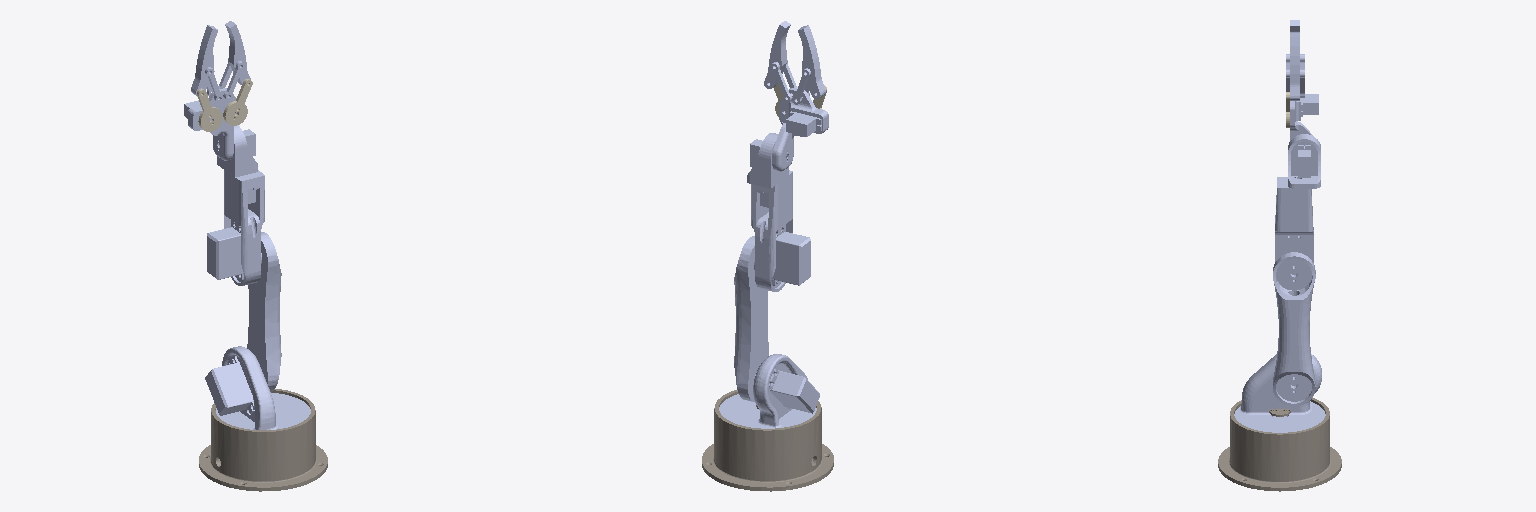
The robot description file, URDF, robot "robot_arm":
<?xml version="1.0" ?>
<!-- =================================================================================== -->
<!-- |    This document was autogenerated by xacro from [local-path]/rmc_ws/src/robot_arm/urdf/robot_arm.xacro | -->
<!-- |    EDITING THIS FILE BY HAND IS NOT RECOMMENDED                                 | -->
<!-- =================================================================================== -->
<!-- This URDF was automatically created by SolidWorks to URDF Exporter! Originally created by [author] ([email redacted]) 
     Commit Version: 1.6.0-4-g7f85cfe  Build Version: 1.6.7995.38578
     For more information, please see http://wiki.ros.org/sw_urdf_exporter -->
<robot name="robot_arm">
    <link name="world" />
    <joint name="fixed_base_joint" type="fixed">
        <parent link="world" />
        <child link="base_link" />
    </joint>
    <transmission name="tran1">
        <type>transmission_interface/SimpleTransmission</type>
        <joint name="joint1">
            <hardwareInterface>hardware_interface/PositionJointInterface</hardwareInterface>
        </joint>
        <actuator name="$motor_name">
            <hardwareInterface>hardware_interface/PositionJointInterface</hardwareInterface>
            <mechanicalReduction>1</mechanicalReduction>
        </actuator>
    </transmission>
    <transmission name="tran2">
        <type>transmission_interface/SimpleTransmission</type>
        <joint name="joint2">
            <hardwareInterface>hardware_interface/PositionJointInterface</hardwareInterface>
        </joint>
        <actuator name="$motor_name">
            <hardwareInterface>hardware_interface/PositionJointInterface</hardwareInterface>
            <mechanicalReduction>1</mechanicalReduction>
        </actuator>
    </transmission>
    <transmission name="tran3">
        <type>transmission_interface/SimpleTransmission</type>
        <joint name="joint3">
            <hardwareInterface>hardware_interface/PositionJointInterface</hardwareInterface>
        </joint>
        <actuator name="$motor_name">
            <hardwareInterface>hardware_interface/PositionJointInterface</hardwareInterface>
            <mechanicalReduction>1</mechanicalReduction>
        </actuator>
    </transmission>
    <transmission name="tran4">
        <type>transmission_interface/SimpleTransmission</type>
        <joint name="joint4">
            <hardwareInterface>hardware_interface/PositionJointInterface</hardwareInterface>
        </joint>
        <actuator name="$motor_name">
            <hardwareInterface>hardware_interface/PositionJointInterface</hardwareInterface>
            <mechanicalReduction>1</mechanicalReduction>
        </actuator>
    </transmission>
    <transmission name="tran5">
        <type>transmission_interface/SimpleTransmission</type>
        <joint name="joint5">
            <hardwareInterface>hardware_interface/PositionJointInterface</hardwareInterface>
        </joint>
        <actuator name="$motor_name">
            <hardwareInterface>hardware_interface/PositionJointInterface</hardwareInterface>
            <mechanicalReduction>1</mechanicalReduction>
        </actuator>
    </transmission>
    <transmission name="tran6">
        <type>transmission_interface/SimpleTransmission</type>
        <joint name="joint6_left">
            <hardwareInterface>hardware_interface/PositionJointInterface</hardwareInterface>
        </joint>
        <actuator name="$motor_name">
            <hardwareInterface>hardware_interface/PositionJointInterface</hardwareInterface>
            <mechanicalReduction>1</mechanicalReduction>
        </actuator>
    </transmission>
    <link name="base_link">
        <inertial>
            <origin rpy="0 0 0" xyz="0.0025107 2.5745E-07 0.014365" />
            <mass value="0.13062" />
            <inertia ixx="0.00013435" ixy="1.3434E-09" ixz="-2.1737E-06" iyy="0.00013984" iyz="6.6089E-10" izz="0.00020719" />
        </inertial>
        <visual>
            <origin rpy="0 0 0" xyz="0 0 0" />
            <geometry>
                <mesh filename="package://robot_arm/meshes/base_link.STL" />
            </geometry>
            <material name="">
                <color rgba="0.64706 0.61961 0.58824 1" />
            </material>
        </visual>
        <collision>
            <origin rpy="0 0 0" xyz="0 0 0" />
            <geometry>
                <mesh filename="package://robot_arm/meshes/base_link.STL" />
            </geometry>
        </collision>
    </link>
    <link name="link1">
        <inertial>
            <origin rpy="0 0 0" xyz="-0.013889 0.0031829 0.023743" />
            <mass value="0.10712" />
            <inertia ixx="7.3474E-05" ixy="2.0176E-08" ixz="6.1163E-06" iyy="5.7803E-05" iyz="-8.5396E-06" izz="6.7542E-05" />
        </inertial>
        <visual>
            <origin rpy="0 0 0" xyz="0 0 0" />
            <geometry>
                <mesh filename="package://robot_arm/meshes/link1.STL" />
            </geometry>
            <material name="">
                <color rgba="0.79216 0.81961 0.93333 1" />
            </material>
        </visual>
        <collision>
            <origin rpy="0 0 0" xyz="0 0 0" />
            <geometry>
                <mesh filename="package://robot_arm/meshes/link1.STL" />
            </geometry>
        </collision>
    </link>
    <joint name="joint1" type="revolute">
        <origin rpy="0 0 0" xyz="0 0 0.0494" />
        <parent link="base_link" />
        <child link="link1" />
        <axis xyz="0 0 1" />
        <limit effort="1.96" lower="-2.09" upper="2.09" velocity="3.14" />
    </joint>
    <link name="link2">
        <inertial>
            <origin rpy="0 0 0" xyz="8.5659E-08 0.059964 0.0078473" />
            <mass value="0.064838" />
            <inertia ixx="0.00010586" ixy="4.5428E-10" ixz="9.5397E-12" iyy="9.4488E-06" iyz="2.4801E-09" izz="0.00011087" />
        </inertial>
        <visual>
            <origin rpy="0 0 0" xyz="0 0 0" />
            <geometry>
                <mesh filename="package://robot_arm/meshes/link2.STL" />
            </geometry>
            <material name="">
                <color rgba="0.79216 0.81961 0.93333 1" />
            </material>
        </visual>
        <collision>
            <origin rpy="0 0 0" xyz="0 0 0" />
            <geometry>
                <mesh filename="package://robot_arm/meshes/link2.STL" />
            </geometry>
        </collision>
    </link>
    <joint name="joint2" type="revolute">
        <origin rpy="1.5708 0 1.5708" xyz="0.001 0.01391 0.04028" />
        <parent link="link1" />
        <child link="link2" />
        <axis xyz="0 0 1" />
        <limit effort="1.96" lower="-1.57" upper="1.57" velocity="3.14" />
    </joint>
    <link name="link3">
        <inertial>
            <origin rpy="0 0 0" xyz="1.6318E-05 -0.031392 0.019078" />
            <mass value="0.090982" />
            <inertia ixx="6.557E-05" ixy="-3.4803E-08" ixz="5.9501E-10" iyy="1.5641E-05" iyz="6.4756E-07" izz="6.5685E-05" />
        </inertial>
        <visual>
            <origin rpy="0 0 0" xyz="0 0 0" />
            <geometry>
                <mesh filename="package://robot_arm/meshes/link3.STL" />
            </geometry>
            <material name="">
                <color rgba="0.79216 0.81961 0.93333 1" />
            </material>
        </visual>
        <collision>
            <origin rpy="0 0 0" xyz="0 0 0" />
            <geometry>
                <mesh filename="package://robot_arm/meshes/link3.STL" />
            </geometry>
        </collision>
    </link>
    <joint name="joint3" type="revolute">
        <origin rpy="-3.1416 0 0" xyz="0 0.12 0" />
        <parent link="link2" />
        <child link="link3" />
        <axis xyz="0 0 1" />
        <limit effort="1.96" lower="-2.09" upper="2.09" velocity="3.14" />
    </joint>
    <link name="link4">
        <inertial>
            <origin rpy="0 0 0" xyz="0.0050325 0.0031741 0.017549" />
            <mass value="0.023188" />
            <inertia ixx="4.4549E-06" ixy="4.1467E-09" ixz="1.1497E-08" iyy="5.245E-06" iyz="-6.2983E-07" izz="2.9434E-06" />
        </inertial>
        <visual>
            <origin rpy="0 0 0" xyz="0 0 0" />
            <geometry>
                <mesh filename="package://robot_arm/meshes/link4.STL" />
            </geometry>
            <material name="">
                <color rgba="0.79216 0.81961 0.93333 1" />
            </material>
        </visual>
        <collision>
            <origin rpy="0 0 0" xyz="0 0 0" />
            <geometry>
                <mesh filename="package://robot_arm/meshes/link4.STL" />
            </geometry>
        </collision>
    </link>
    <joint name="joint4" type="revolute">
        <origin rpy="1.5708 0 0" xyz="0.0051 -0.0916 0.0135" />
        <parent link="link3" />
        <child link="link4" />
        <axis xyz="0 0 1" />
        <limit effort="1.96" lower="-2.09" upper="2.09" velocity="3.14" />
    </joint>
    <link name="link5">
        <inertial>
            <origin rpy="0 0 0" xyz="0.00382924734836193 0.0292405343212404 0.0147859518518059" />
            <mass value="0.0225683765881369" />
            <inertia ixx="8.83963263986709E-06" ixy="-1.28322418570414E-06" ixz="-3.58450440375711E-07" iyy="3.63520705800952E-06" iyz="-1.63730559254101E-06" izz="7.38356194215692E-06" />
        </inertial>
        <visual>
            <origin rpy="0 0 0" xyz="0 0 0" />
            <geometry>
                <mesh filename="package://robot_arm/meshes/link5.STL" />
            </geometry>
            <material name="">
                <color rgba="0.792156862745098 0.819607843137255 0.933333333333333 1" />
            </material>
        </visual>
        <collision>
            <origin rpy="0 0 0" xyz="0 0 0" />
            <geometry>
                <mesh filename="package://robot_arm/meshes/link5.STL" />
            </geometry>
        </collision>
    </link>
    <joint name="joint5" type="revolute">
        <origin rpy="1.5708 0 -3.1416" xyz="0.005 0.01535 0.02625" />
        <parent link="link4" />
        <child link="link5" />
        <axis xyz="0 0 1" />
        <limit effort="1.96" lower="-1.57" upper="1.57" velocity="3.14" />
    </joint>
    <link name="link6_left">
        <inertial>
            <origin rpy="0 0 0" xyz="0.00606767082237808 0.00200783995073988 -0.00200000001662691" />
            <mass value="0.00240579375710288" />
            <inertia ixx="1.00721310971705E-07" ixy="-8.05001158171013E-08" ixz="4.70370703065413E-18" iyy="3.17353677826403E-07" iyz="1.37078588865237E-17" izz="4.11659538779167E-07" />
        </inertial>
        <visual>
            <origin rpy="0 0 0" xyz="0 0 0" />
            <geometry>
                <mesh filename="package://robot_arm/meshes/link6_left.STL" />
            </geometry>
            <material name="">
                <color rgba="0.843137254901961 0.815686274509804 0.752941176470588 1" />
            </material>
        </visual>
        <collision>
            <origin rpy="0 0 0" xyz="0 0 0" />
            <geometry>
                <mesh filename="package://robot_arm/meshes/link6_left.STL" />
            </geometry>
        </collision>
    </link>
    <joint name="joint6_left" type="revolute">
        <origin rpy="1.5708 0 1.5708" xyz="0.018 0.038 0.02455" />
        <parent link="link5" />
        <child link="link6_left" />
        <axis xyz="0 0 1" />
        <limit effort="1.96" lower="-0.2" upper="1.0" velocity="3.14" />
    </joint>
    <link name="link7_left">
        <inertial>
            <origin rpy="0 0 0" xyz="-0.00734519517731914 0.0265831010155482 0.00500000002280107" />
            <mass value="0.0064459935128382" />
            <inertia ixx="2.07296523349927E-06" ixy="4.22581244927909E-07" ixz="-2.95683468699281E-17" iyy="2.09543211765178E-07" iyz="1.28628264267561E-16" izz="2.17507522005048E-06" />
        </inertial>
        <visual>
            <origin rpy="0 0 0" xyz="0 0 0" />
            <geometry>
                <mesh filename="package://robot_arm/meshes/link7_left.STL" />
            </geometry>
            <material name="">
                <color rgba="0.792156862745098 0.819607843137255 0.933333333333333 1" />
            </material>
        </visual>
        <collision>
            <origin rpy="0 0 0" xyz="0 0 0" />
            <geometry>
                <mesh filename="package://robot_arm/meshes/link7_left.STL" />
            </geometry>
        </collision>
    </link>
    <joint name="joint7_left" type="continuous">
        <origin rpy="3.1416 0 1.5708" xyz="0.029193 0.0096603 -0.004" />
        <parent link="link6_left" />
        <child link="link7_left" />
        <axis xyz="0 0 1" />
        <mimic joint="joint6_left" multiplier="1" offset="0" />
    </joint>
    <link name="link8_left">
        <inertial>
            <origin rpy="0 0 0" xyz="0.0146971742805259 0.00492372504340641 -0.00900000002019757" />
            <mass value="0.00159752482636938" />
            <inertia ixx="2.7303102737423E-08" ixy="-5.98131214434453E-08" ixz="4.92452452847807E-18" iyy="1.85805414785436E-07" iyz="2.18973473273421E-18" izz="2.08848451319207E-07" />
        </inertial>
        <visual>
            <origin rpy="0 0 0" xyz="0 0 0" />
            <geometry>
                <mesh filename="package://robot_arm/meshes/link8_left.STL" />
            </geometry>
            <material name="">
                <color rgba="0.792156862745098 0.819607843137255 0.933333333333333 1" />
            </material>
        </visual>
        <collision>
            <origin rpy="0 0 0" xyz="0 0 0" />
            <geometry>
                <mesh filename="package://robot_arm/meshes/link8_left.STL" />
            </geometry>
        </collision>
    </link>
    <joint name="joint8_left" type="continuous">
        <origin rpy="1.5708 0 1.5708" xyz="0.018 0.058 0.01565" />
        <parent link="link5" />
        <child link="link8_left" />
        <axis xyz="0 0 1" />
        <mimic joint="joint6_left" multiplier="1" offset="0" />
    </joint>
    <link name="link9_right">
        <inertial>
            <origin rpy="0 0 0" xyz="-0.00277730044409414 0.00575627072829776 0.0020000000115335" />
            <mass value="0.00240579375710288" />
            <inertia ixx="2.93024556974838E-07" ixy="1.05635399174356E-07" ixz="-2.32223340192349E-17" iyy="1.25050431823272E-07" iyz="2.62403805580379E-17" izz="4.11659538779168E-07" />
        </inertial>
        <visual>
            <origin rpy="0 0 0" xyz="0 0 0" />
            <geometry>
                <mesh filename="package://robot_arm/meshes/link9_right.STL" />
            </geometry>
            <material name="">
                <color rgba="0.843137254901961 0.815686274509804 0.752941176470588 1" />
            </material>
        </visual>
        <collision>
            <origin rpy="0 0 0" xyz="0 0 0" />
            <geometry>
                <mesh filename="package://robot_arm/meshes/link9_right.STL" />
            </geometry>
        </collision>
    </link>
    <joint name="joint9_right" type="continuous">
        <origin rpy="0 -1.5708 0" xyz="0.018 0.038 -0.00235" />
        <parent link="link5" />
        <child link="link9_right" />
        <axis xyz="0 0 1" />
        <mimic joint="joint6_left" multiplier="1" offset="0" />
    </joint>
    <link name="link10_right">
        <inertial>
            <origin rpy="0 0 0" xyz="0.0267439601043644 0.00673600396655637 -0.00500000001799825" />
            <mass value="0.0064459935128382" />
            <inertia ixx="1.91213496794507E-07" ixy="-3.79582580718992E-07" ixz="7.22249962414533E-18" iyy="2.09129494847001E-06" iyz="3.27662653427592E-18" izz="2.17507522005054E-06" />
        </inertial>
        <visual>
            <origin rpy="0 0 0" xyz="0 0 0" />
            <geometry>
                <mesh filename="package://robot_arm/meshes/link10_right.STL" />
            </geometry>
            <material name="">
                <color rgba="0.792156862745098 0.819607843137255 0.933333333333333 1" />
            </material>
        </visual>
        <collision>
            <origin rpy="0 0 0" xyz="0 0 0" />
            <geometry>
                <mesh filename="package://robot_arm/meshes/link10_right.STL" />
            </geometry>
        </collision>
    </link>
    <joint name="joint10_right" type="continuous">
        <origin rpy="3.1416 0 1.5708" xyz="-0.013362 0.027695 0.004" />
        <parent link="link9_right" />
        <child link="link10_right" />
        <axis xyz="0 0 1" />
        <mimic joint="joint6_left" multiplier="1" offset="0" />
    </joint>
    <link name="link11_right">
        <inertial>
            <origin rpy="0 0 0" xyz="-0.00655664333868619 0.0140449431524884 0.00899999999847946" />
            <mass value="0.00159752482636938" />
            <inertia ixx="1.70310502953805E-07" ixy="7.61150218710589E-08" ixz="-8.75120327723677E-18" iyy="4.27980145690528E-08" iyz="1.77383004666499E-17" izz="2.08848451319207E-07" />
        </inertial>
        <visual>
            <origin rpy="0 0 0" xyz="0 0 0" />
            <geometry>
                <mesh filename="package://robot_arm/meshes/link11_right.STL" />
            </geometry>
            <material name="">
                <color rgba="0.792156862745098 0.819607843137255 0.933333333333333 1" />
            </material>
        </visual>
        <collision>
            <origin rpy="0 0 0" xyz="0 0 0" />
            <geometry>
                <mesh filename="package://robot_arm/meshes/link11_right.STL" />
            </geometry>
        </collision>
    </link>
    <joint name="joint11_right" type="continuous">
        <origin rpy="0 -1.5708 0" xyz="0.018 0.058 0.00565" />
        <parent link="link5" />
        <child link="link11_right" />
        <axis xyz="0 0 1" />
        <mimic joint="joint6_left" multiplier="1" offset="0" />
    </joint>
    <!-- <joint
    name="joint12_left"
    type="fixed">
    <origin
      xyz="-0.008 0.02 0.0"
      rpy="0 -0 0" />
    <parent
      link="link8_left" />
    <child
      link="link7_left" />
    <axis
      xyz="0 0 1" />
  </joint>
    <joint
    name="joint13_right"
    type="fixed">
    <origin
      xyz="0.02 0.008 0.0"
      rpy="0 -0 0" />
    <parent
      link="link11_right" />
    <child
      link="link10_right" />
    <axis
      xyz="0 0 1" />
  </joint> -->
    <link name="grasping_frame" />
    <joint name="grasping_frame_joint" type="fixed">
        <origin rpy="1.5708 0 1.5708" xyz="0.02248 0.12258 0.00595" />
        <parent link="link5" />
        <child link="grasping_frame" />
    </joint>
    <transmission name="trans_joint7_left">
        <type>transmission_interface/SimpleTransmission</type>
        <joint name="joint7_left">
            <hardwareInterface>hardware_interface/EffortJointInterface</hardwareInterface>
        </joint>
        <actuator name="joint7_left_motor">
            <hardwareInterface>hardware_interface/EffortJointInterface</hardwareInterface>
            <mechanicalReduction>1</mechanicalReduction>
        </actuator>
    </transmission>
    <transmission name="trans_joint8_left">
        <type>transmission_interface/SimpleTransmission</type>
        <joint name="joint8_left">
            <hardwareInterface>hardware_interface/EffortJointInterface</hardwareInterface>
        </joint>
        <actuator name="joint8_left_motor">
            <hardwareInterface>hardware_interface/EffortJointInterface</hardwareInterface>
            <mechanicalReduction>1</mechanicalReduction>
        </actuator>
    </transmission>
    <transmission name="trans_joint9_right">
        <type>transmission_interface/SimpleTransmission</type>
        <joint name="joint9_right">
            <hardwareInterface>hardware_interface/EffortJointInterface</hardwareInterface>
        </joint>
        <actuator name="joint9_right_motor">
            <hardwareInterface>hardware_interface/EffortJointInterface</hardwareInterface>
            <mechanicalReduction>1</mechanicalReduction>
        </actuator>
    </transmission>
    <transmission name="trans_joint10_right">
        <type>transmission_interface/SimpleTransmission</type>
        <joint name="joint10_right">
            <hardwareInterface>hardware_interface/EffortJointInterface</hardwareInterface>
        </joint>
        <actuator name="joint10_right_motor">
            <hardwareInterface>hardware_interface/EffortJointInterface</hardwareInterface>
            <mechanicalReduction>1</mechanicalReduction>
        </actuator>
    </transmission>
    <transmission name="trans_joint11_right">
        <type>transmission_interface/SimpleTransmission</type>
        <joint name="joint11_right">
            <hardwareInterface>hardware_interface/EffortJointInterface</hardwareInterface>
        </joint>
        <actuator name="joint11_right_motor">
            <hardwareInterface>hardware_interface/EffortJointInterface</hardwareInterface>
            <mechanicalReduction>1</mechanicalReduction>
        </actuator>
    </transmission>
    <gazebo>
        <plugin name="gazebo_ros_control" filename="libgazebo_ros_control.so">
            <robotNamespace>/</robotNamespace>
        </plugin>
    </gazebo>
</robot>

--- Facts derived from the render (not from the file) ---
Views: 3 orthographic renders of the robot side by side, from view 1: azimuth 30°, elevation 25°; view 2: azimuth 150°, elevation 25°; view 3: azimuth 270°, elevation 25°.
Robot: robot_arm — 14 links, 13 joints (6 revolute, 5 continuous, 2 fixed); root link world; default pose: all joints at 0.
Links seen in each view (by area): view 1: base_link, link1, link3, link2, link5, link4, link7_left, link10_right, link9_right, link6_left; view 2: base_link, link3, link1, link2, link5, link4, link7_left, link10_right; view 3: base_link, link2, link1, link3, link4, link5, link10_right.
Link boxes in pixels (<box>): base_link: <box>199,389,327,491</box>; link1: <box>205,346,310,429</box>; link3: <box>207,170,264,285</box>; link2: <box>247,232,281,390</box>; link5: <box>184,88,236,160</box>; link4: <box>217,125,257,176</box>; link7_left: <box>191,25,217,96</box>; link10_right: <box>225,21,250,84</box>; link9_right: <box>223,79,252,125</box>; link6_left: <box>197,88,222,131</box>; base_link: <box>702,390,833,491</box>; link3: <box>751,170,810,291</box>; link1: <box>719,354,819,428</box>; link2: <box>734,236,768,401</box>; link5: <box>772,88,828,171</box>; link4: <box>747,133,788,188</box>; link7_left: <box>798,25,825,98</box>; link10_right: <box>764,21,790,88</box>; base_link: <box>1218,397,1341,491</box>; link2: <box>1273,252,1315,405</box>; link1: <box>1234,354,1325,432</box>; link3: <box>1275,177,1313,274</box>; link4: <box>1288,134,1320,188</box>; link5: <box>1290,94,1318,140</box>; link10_right: <box>1290,32,1299,100</box>.
Size in the robot's own frame: 0.1305 by 0.1213 by 0.4574 metres.
12 mesh visuals loaded from 12 distinct referenced files (12 binary STL).